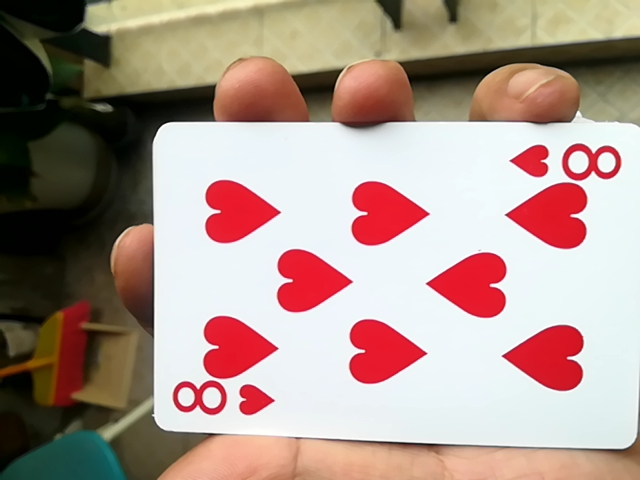hx 8: (137, 117, 629, 453)
